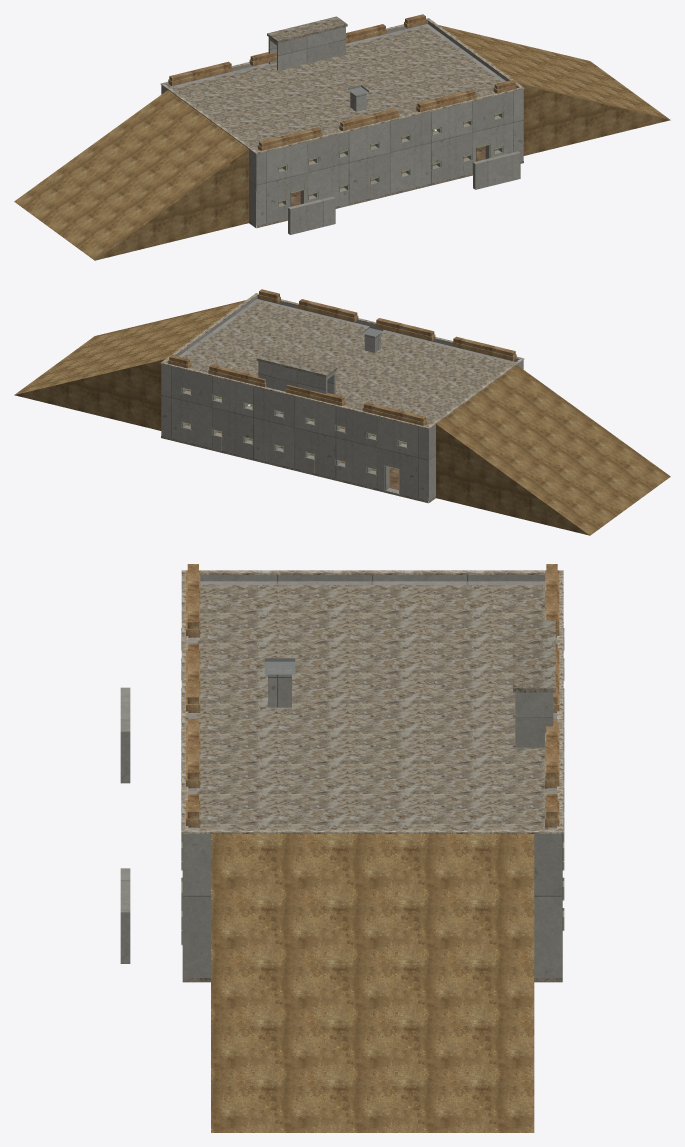
File: mb-command-bunker.zfix-v20.lod0.glb
3 renders of one model, top to bottom at view 1: azimuth 30°, elevation 25°; view 2: azimuth 150°, elevation 25°; view 3: azimuth 270°, elevation 25°, orthographic. The views are drawn at different scales.
Visible parts, largest first — view 1: mb-command-bunker; view 2: mb-command-bunker; view 3: mb-command-bunker.
Boxes of the visible parts, bbox=[...] form: mb-command-bunker: bbox=[14, 14, 670, 260]; mb-command-bunker: bbox=[14, 289, 670, 535]; mb-command-bunker: bbox=[120, 564, 564, 1132].
Size of the model in its own units: 56 by 9.42 by 18.66.
4 materials, 3 textured.
